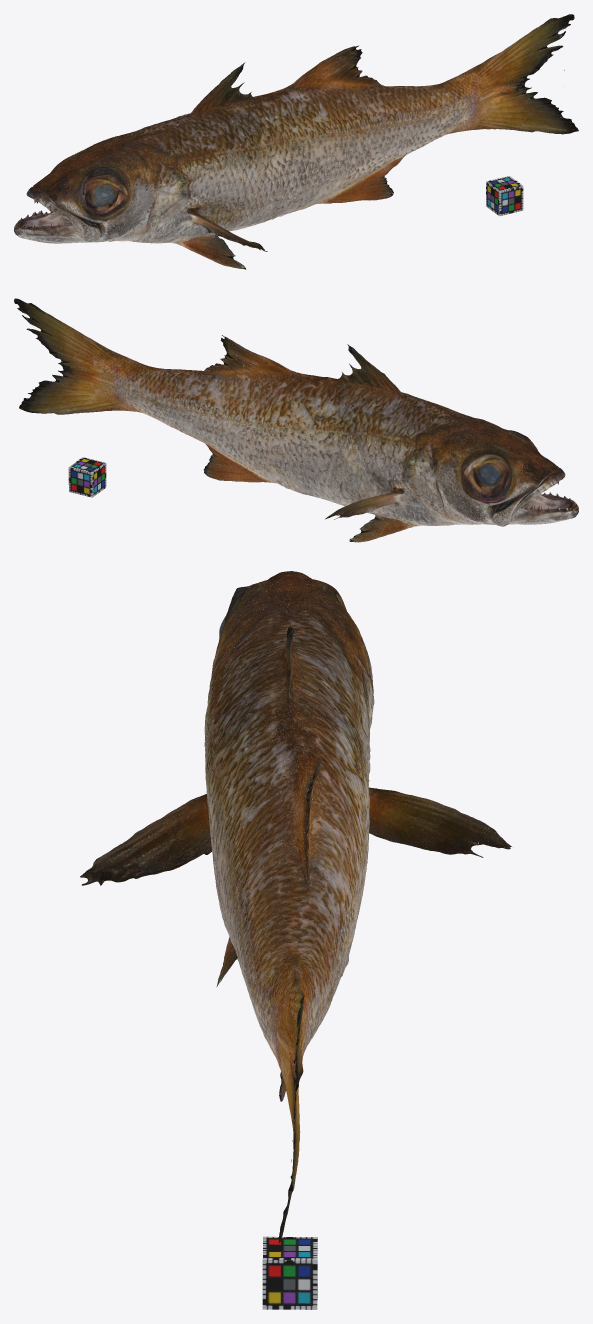
The model's file is kuromutsu-b2848319170a.glb.
The picture shows the model from 3 angles, top to bottom: view 1: azimuth 30°, elevation 25°; view 2: azimuth 150°, elevation 25°; view 3: azimuth 270°, elevation 25°; orthographic projection. The views are drawn at different scales.
Visible parts, largest first — view 1: Q11672-1all-2_5, Cube_2; view 2: Q11672-1all-2_5, Cube_2; view 3: Q11672-1all-2_5, Cube_2.
Boxes of the visible parts, x1,y1,x2,y2 form: Q11672-1all-2_5: (14, 14, 578, 269); Cube_2: (486, 176, 523, 216); Q11672-1all-2_5: (14, 298, 578, 542); Cube_2: (68, 457, 106, 497); Q11672-1all-2_5: (80, 571, 511, 1242); Cube_2: (262, 1236, 317, 1309).
Bounding box in the file's own units: 13.07 × 4.66 × 4.36.
3 materials, 3 textured.
